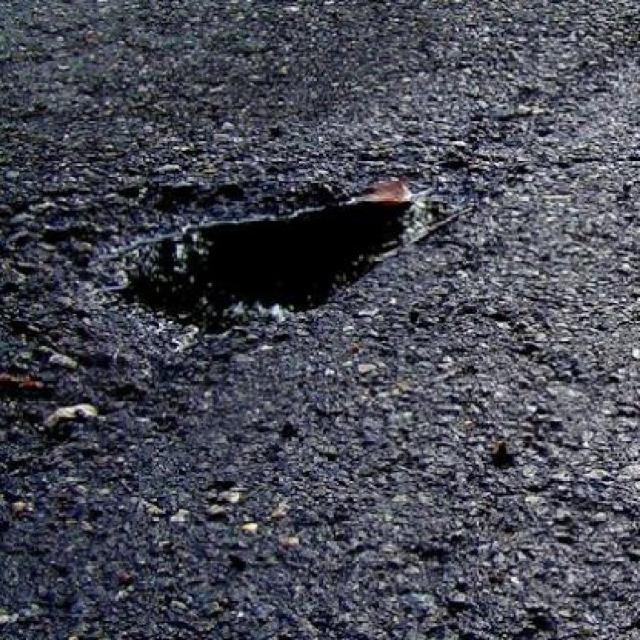pothole: (78, 154, 445, 355)
